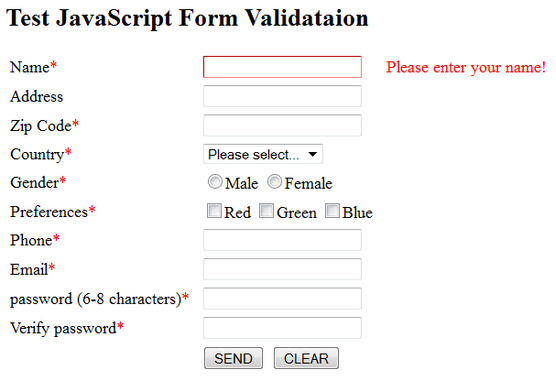_form_: (1, 1, 416, 380)
button: (272, 346, 338, 370), (203, 346, 263, 370)
checkbox: (323, 199, 340, 220), (258, 201, 276, 219), (206, 201, 223, 219)
checkbox_with_label: (256, 199, 316, 220), (321, 198, 373, 222), (203, 199, 251, 220)
field: (200, 314, 361, 342), (200, 285, 362, 311), (200, 257, 363, 282), (201, 228, 363, 253), (201, 113, 362, 138), (202, 54, 362, 79), (200, 84, 362, 108)
field_with_label: (10, 312, 362, 344), (9, 111, 363, 140), (11, 226, 364, 255), (11, 52, 363, 80), (11, 284, 363, 312), (10, 82, 363, 109), (10, 256, 363, 283), (12, 142, 326, 166)
radio: (266, 171, 283, 191), (207, 172, 223, 191)
radio_with_label: (265, 169, 332, 192), (204, 170, 258, 192)
select: (202, 143, 324, 164)
